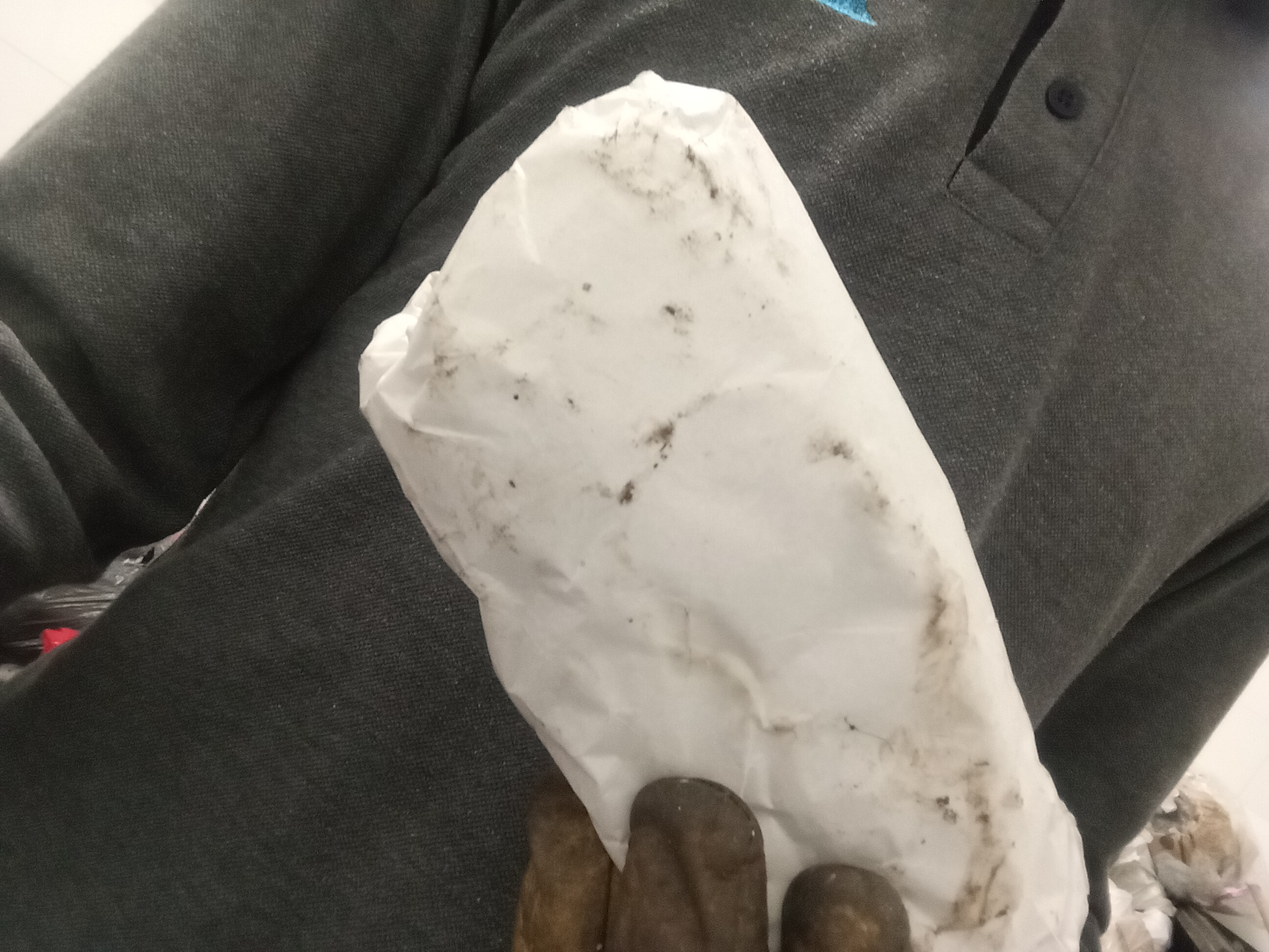Ordinario: (352, 72, 1090, 952)
